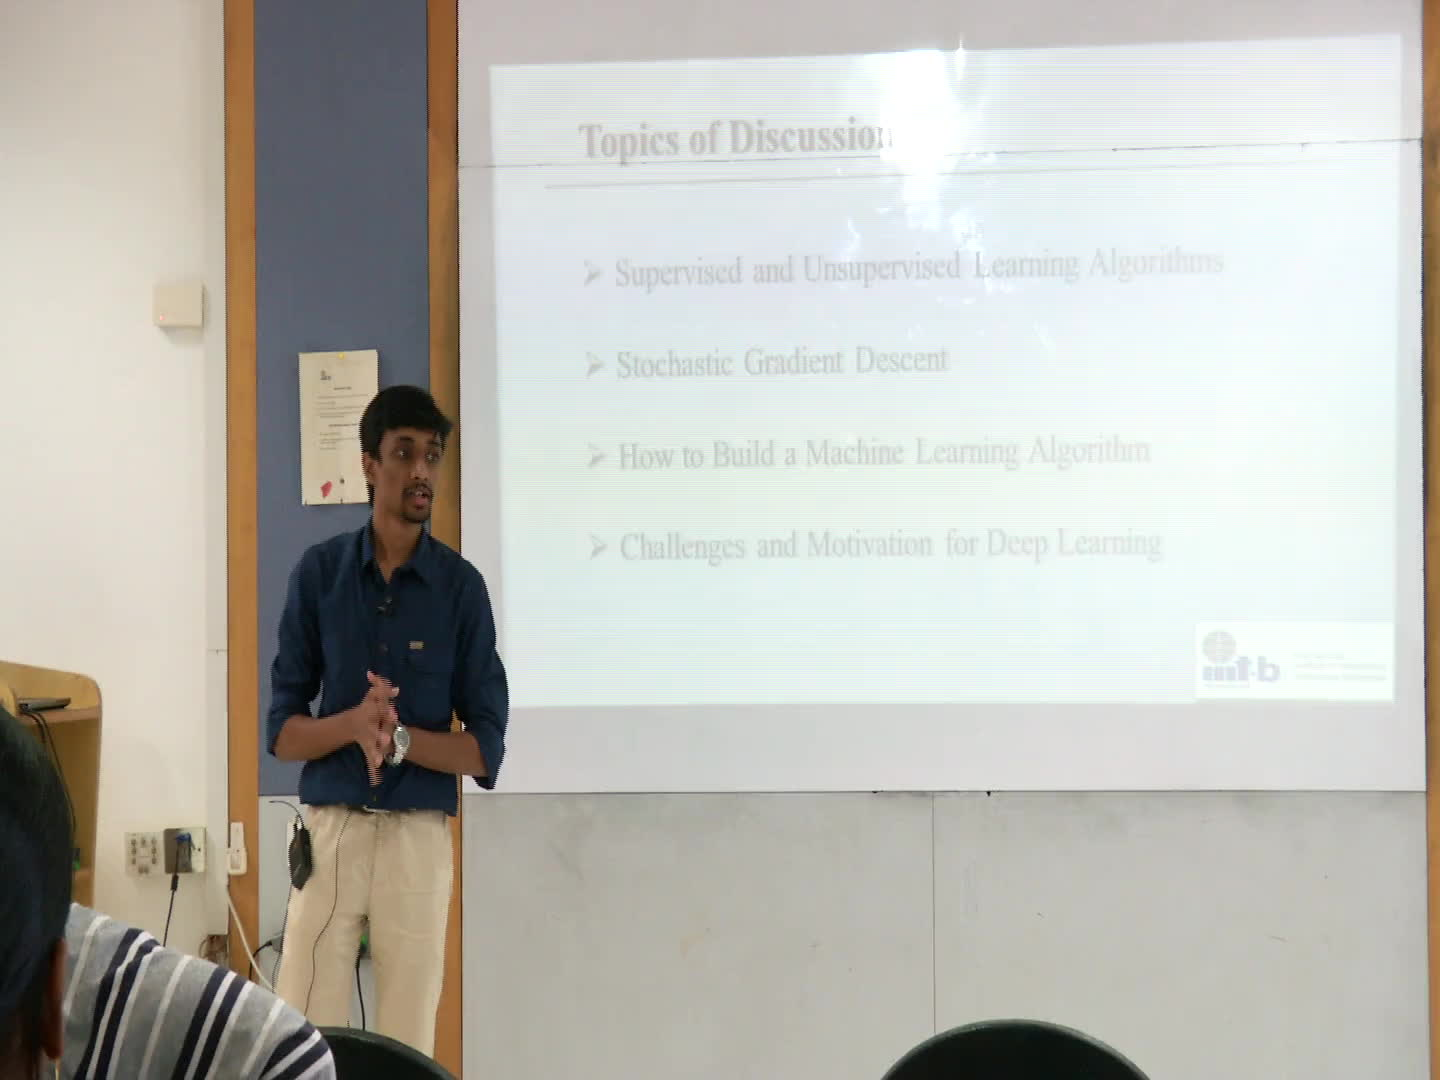slide: (489, 35, 1401, 704)
